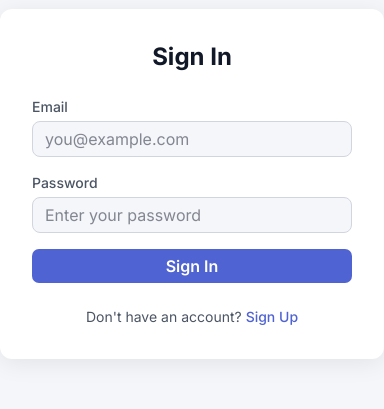
Test: SignInPage › displays error message on login failure
Type "test@example.com" into the field labelled "Email" at [192, 139], box 32,121 -> 352,157
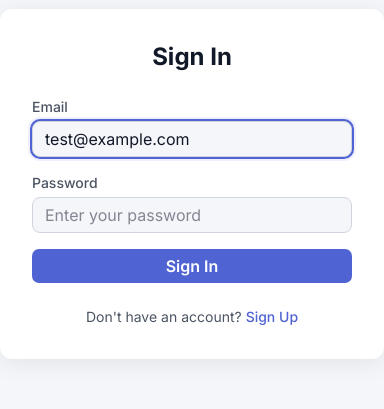
Type "wrong" into the password field labelled "Password" at [192, 215], box 32,197 -> 352,233
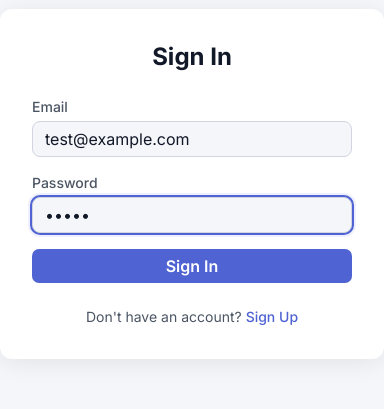
Click the button "Sign In" at [192, 266], box 32,249 -> 352,283
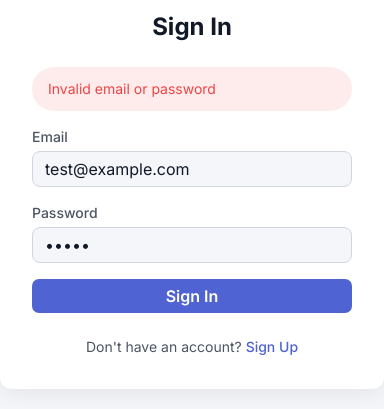
Result: the message reads "Invalid email or password" at 48,80 -> 216,97
